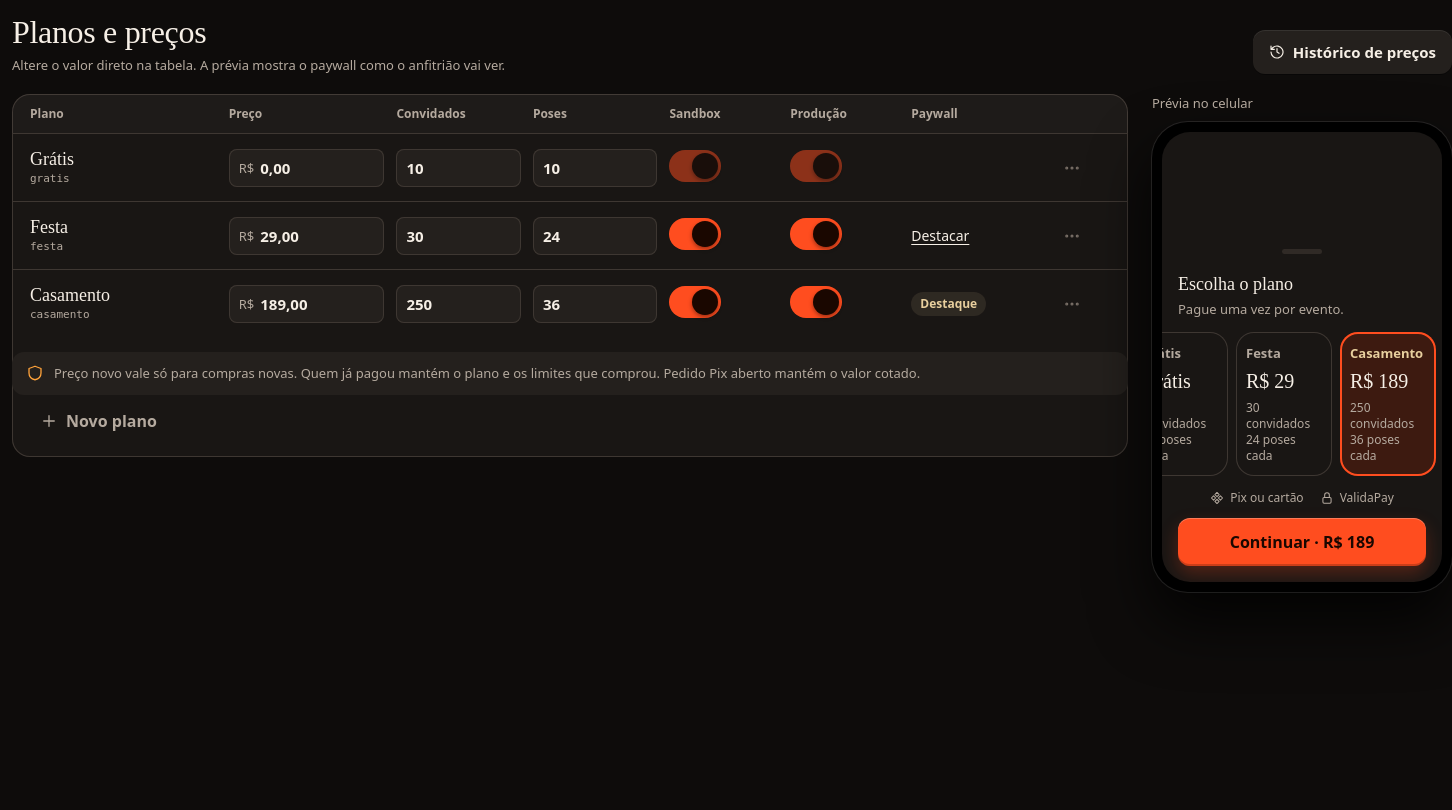
Test: PricesEditor (M03/M04) › editar preço mostra a barra, o valor antigo, atualiza a prévia ao vivo e Descartar volta ao original
Replace the text in the field named "Preço Festa" with "39,00". click: (317, 236)
box: left=260, top=226, right=374, bottom=246
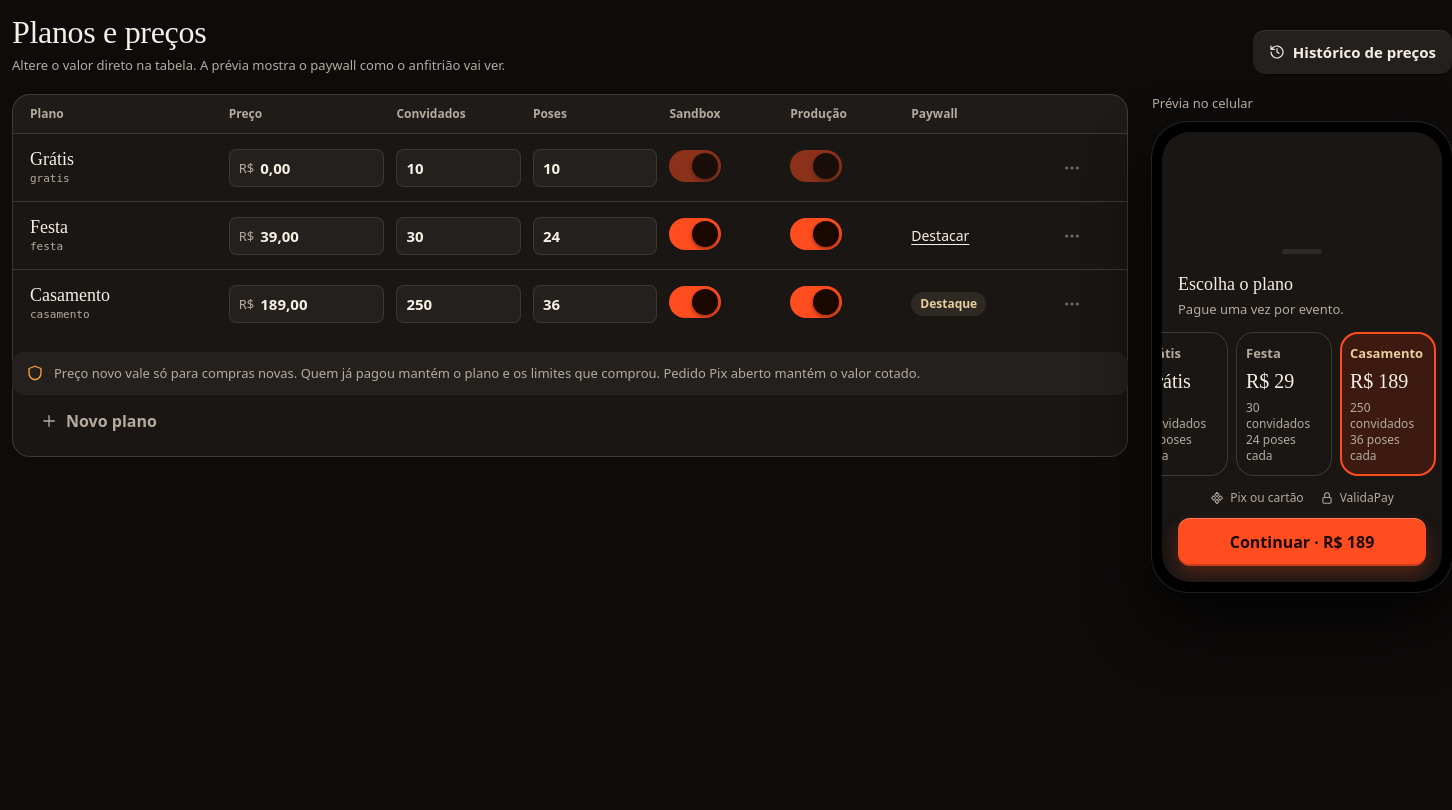
Leave the field named "Preço Festa", box left=260, top=226, right=374, bottom=246
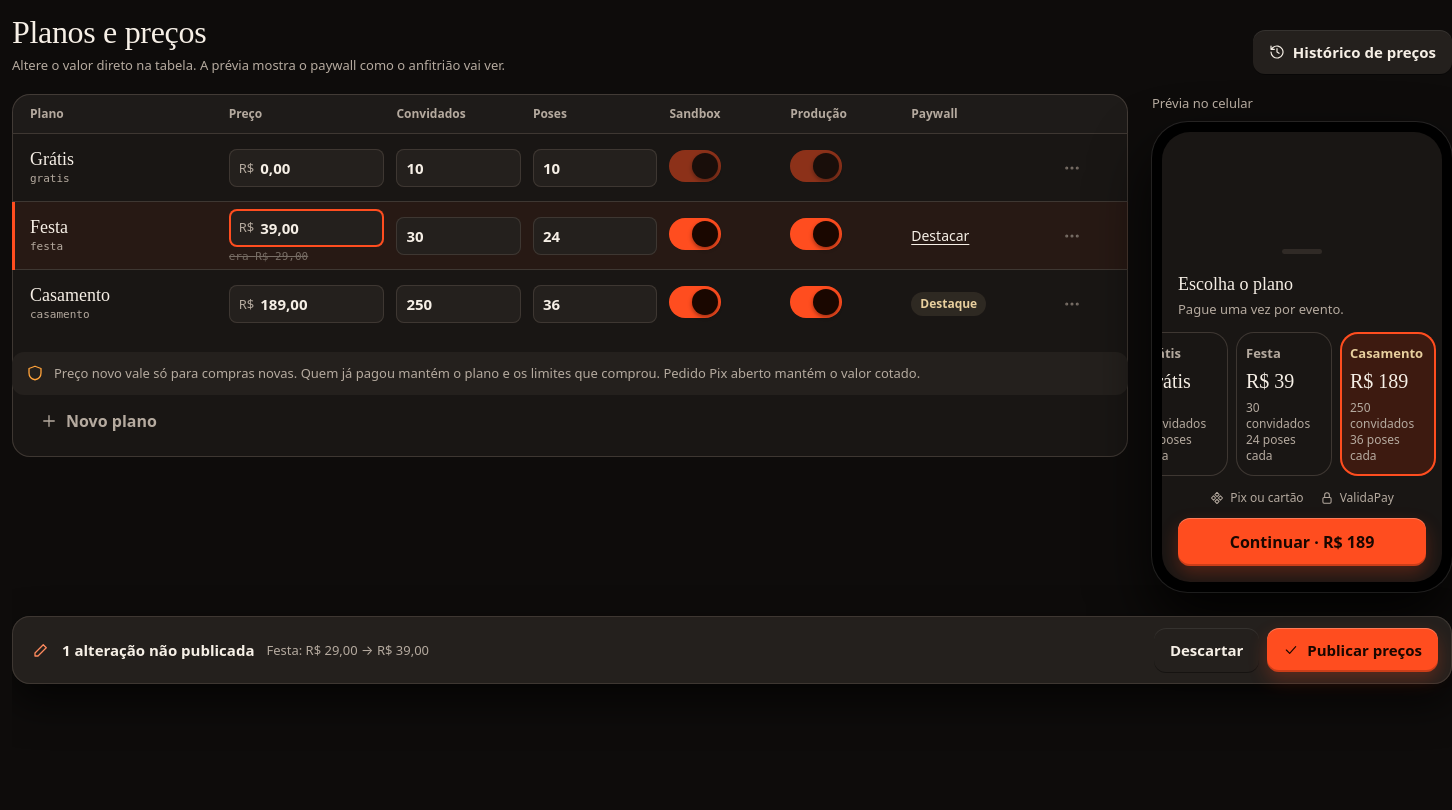
Result: the text "1 alteração não publicada" is shown at left=62, top=642, right=254, bottom=658
Result: the text "Festa: R$ 29,00 → R$ 39,00" is shown at left=266, top=641, right=429, bottom=659
Result: the text "era R$ 29,00" is shown at left=229, top=250, right=308, bottom=262
Click the button "Descartar". click: (1207, 650)
box: left=1154, top=628, right=1259, bottom=672
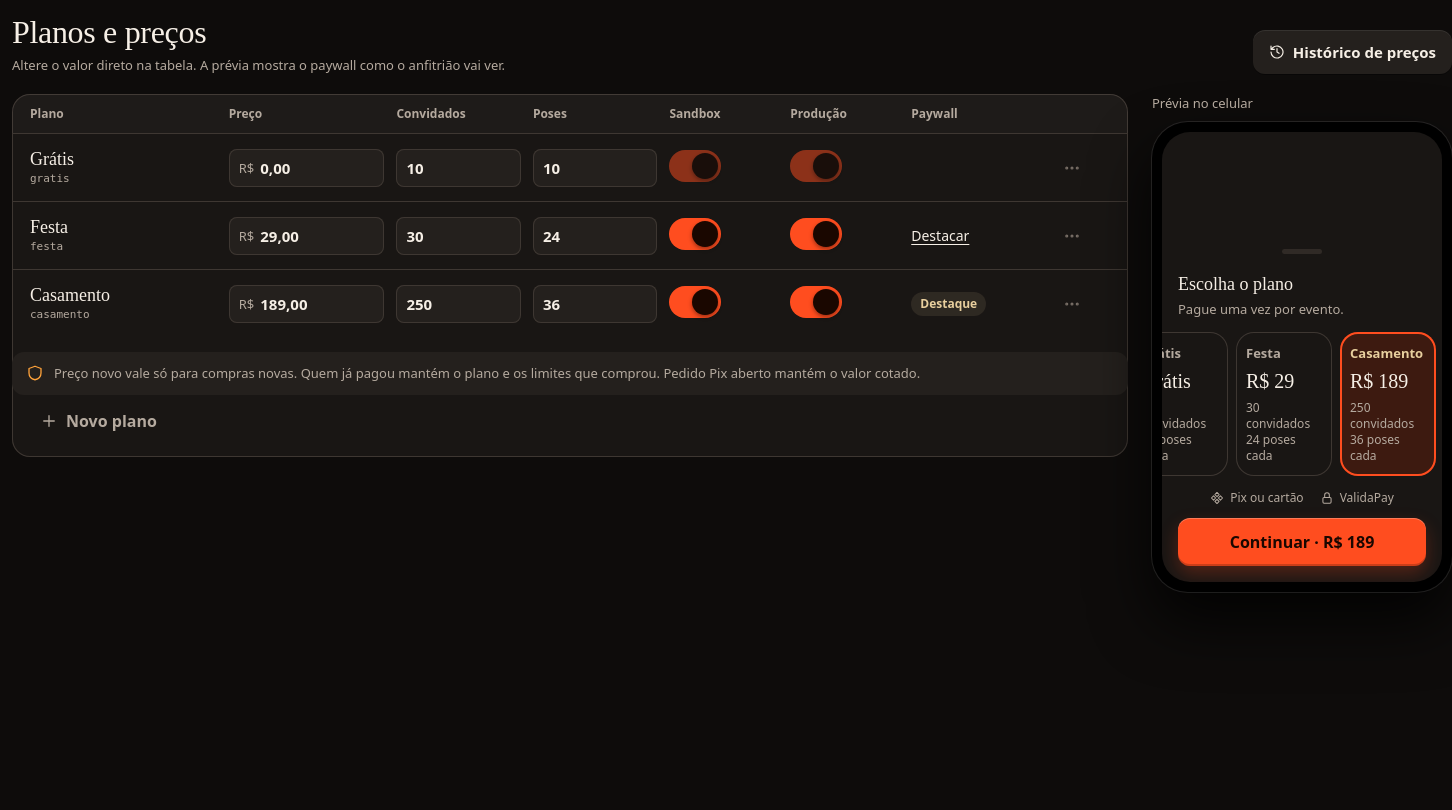
Result: the text "não publicada" is gone
